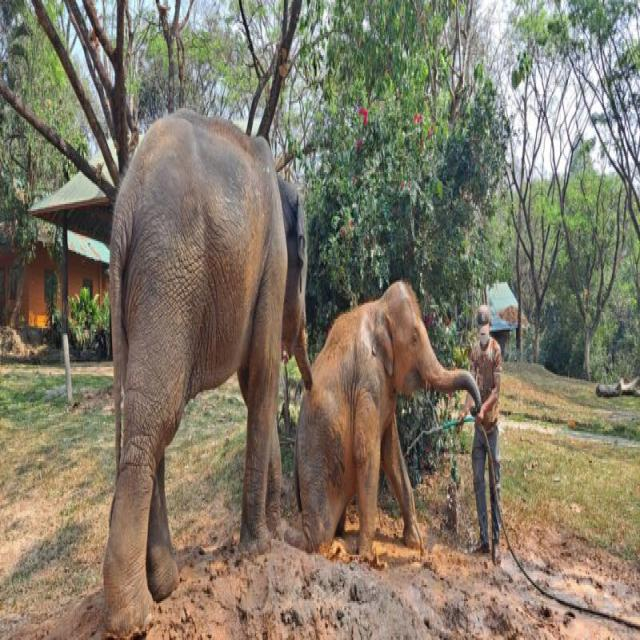Elephant: (103, 103, 319, 640), (293, 270, 486, 592)
